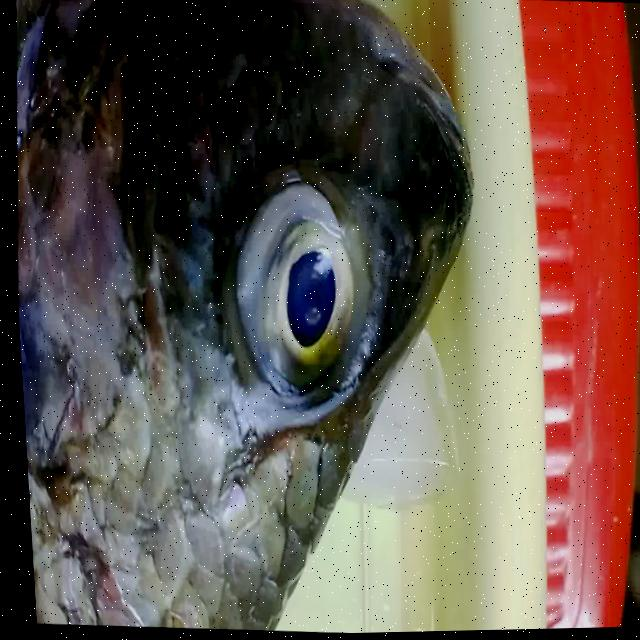Fresh: (200, 145, 391, 443)
